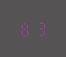eight: (19, 20, 32, 37)
three: (33, 19, 46, 36)
